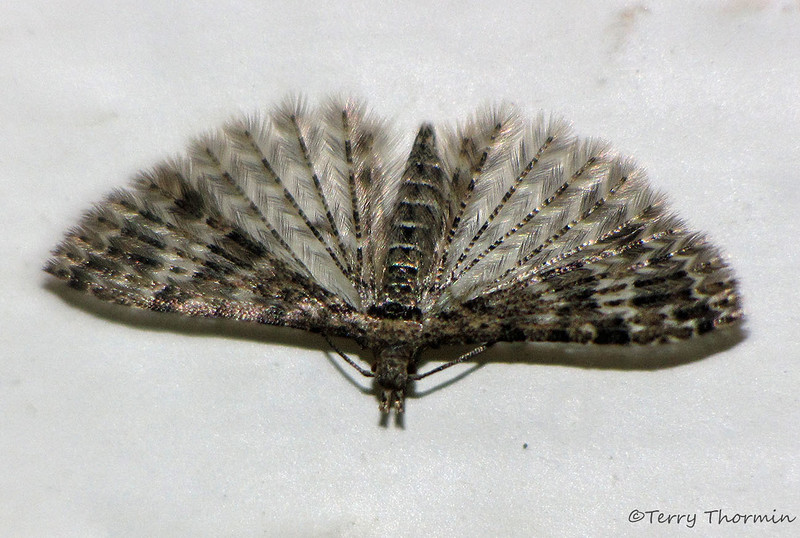Alucitidae: (34, 95, 750, 435)
moth: (32, 93, 748, 433)
